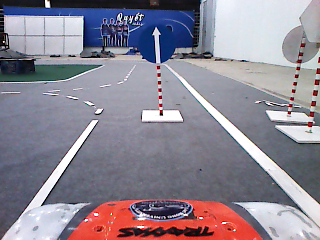straight: (138, 24, 177, 65)
